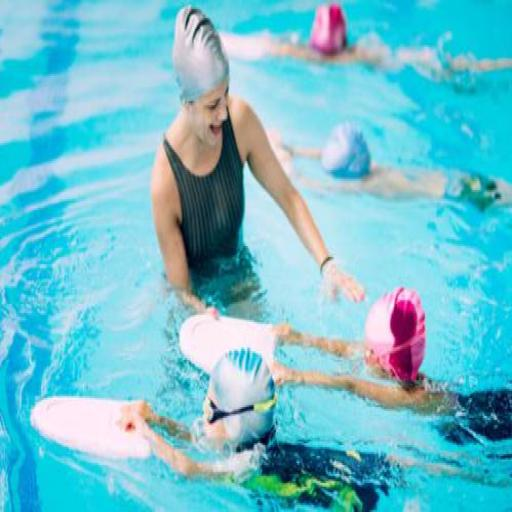swimming: (148, 4, 366, 318), (211, 0, 511, 87), (268, 118, 511, 215)
